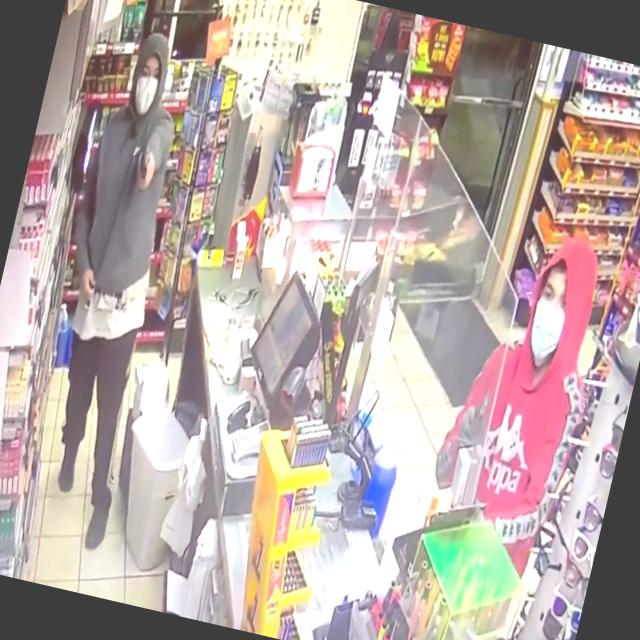handgun: (459, 375, 510, 460), (130, 138, 168, 198)
